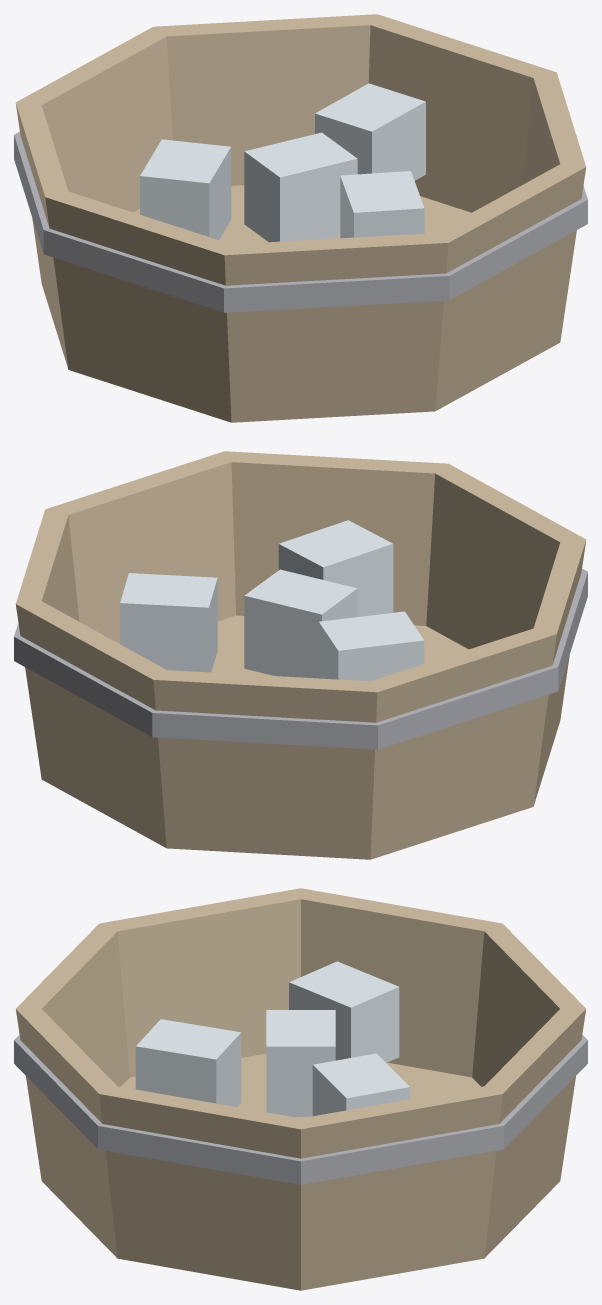
Rendered from prop-ice-tub-small.fbx.
The picture shows the model from 3 angles, top to bottom: view 1: azimuth 30°, elevation 25°; view 2: azimuth 150°, elevation 25°; view 3: azimuth 270°, elevation 25°; orthographic projection. The views are drawn at different scales.
Visible parts, largest first — view 1: prop-ice-tub-small; view 2: prop-ice-tub-small; view 3: prop-ice-tub-small.
Part boxes in pixels (<box>): prop-ice-tub-small: <box>14,14,587,422</box>; prop-ice-tub-small: <box>14,451,587,859</box>; prop-ice-tub-small: <box>14,888,587,1290</box>.
Size of the model in its own units: 66.4 by 22 by 66.4.
